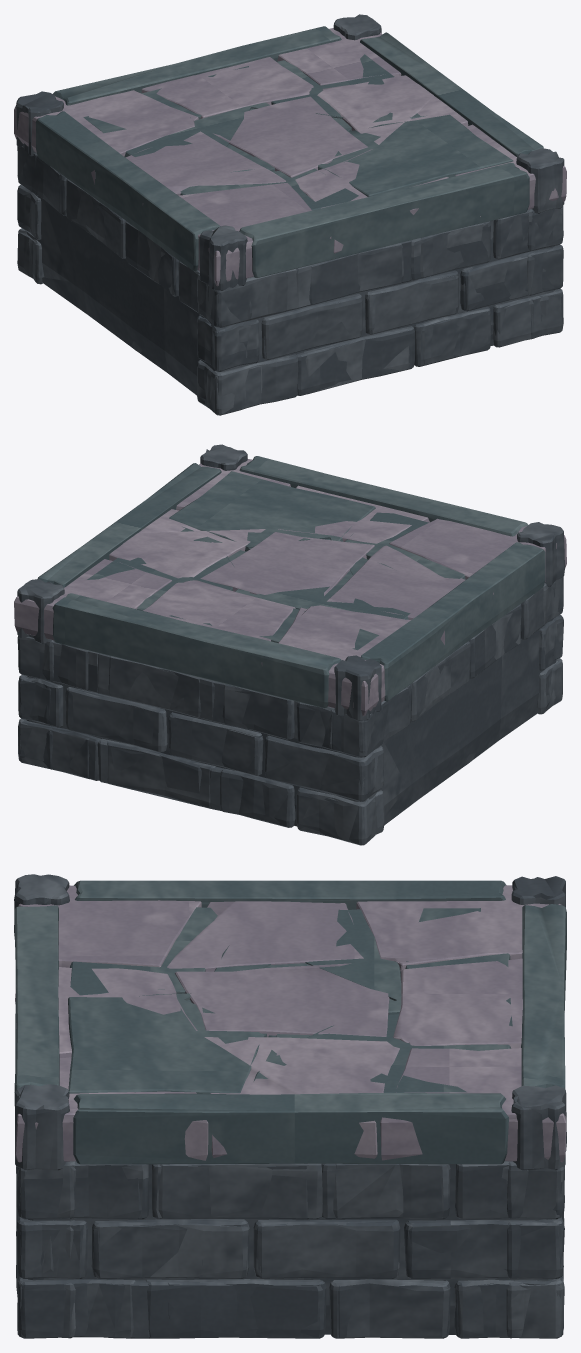
File: chapter2_tiles_expansion.glb
3 renders of one model, top to bottom at view 1: azimuth 30°, elevation 25°; view 2: azimuth 150°, elevation 25°; view 3: azimuth 270°, elevation 25°, orthographic. The views are drawn at different scales.
Parts seen in each view (by area): view 1: build_tile_mask_1_surface, path_tile_mask_1_surface; view 2: build_tile_mask_1_surface, path_tile_mask_1_surface; view 3: build_tile_mask_1_surface, path_tile_mask_1_surface.
Part boxes in pixels (x1,y1,x2,y2): build_tile_mask_1_surface: (16,14,564,414); path_tile_mask_1_surface: (14,28,566,415); build_tile_mask_1_surface: (17,444,564,845); path_tile_mask_1_surface: (14,459,566,845); build_tile_mask_1_surface: (14,874,566,1338); path_tile_mask_1_surface: (15,885,566,1338).
Size of the model in its own units: 0.9914 by 0.468 by 0.9901.
3 materials, 3 textured.
